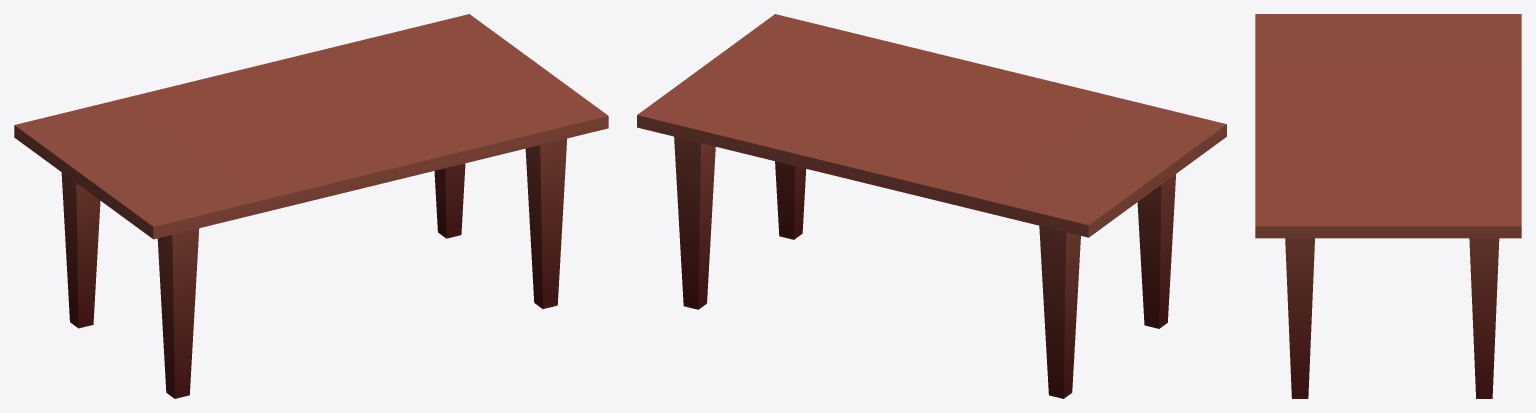
Rendered from table.fbx.
The picture shows the model from 3 angles, left to right: view 1: azimuth 30°, elevation 25°; view 2: azimuth 150°, elevation 25°; view 3: azimuth 270°, elevation 25°; orthographic projection. The views are drawn at different scales.
Visible parts, largest first — view 1: Table; view 2: Table; view 3: Table.
Boxes of the visible parts, x1,y1,x2,y2 form: Table: (14,14,608,398); Table: (637,14,1226,398); Table: (1255,14,1521,398).
Size of the model in its own units: 1306 by 537 by 692.
